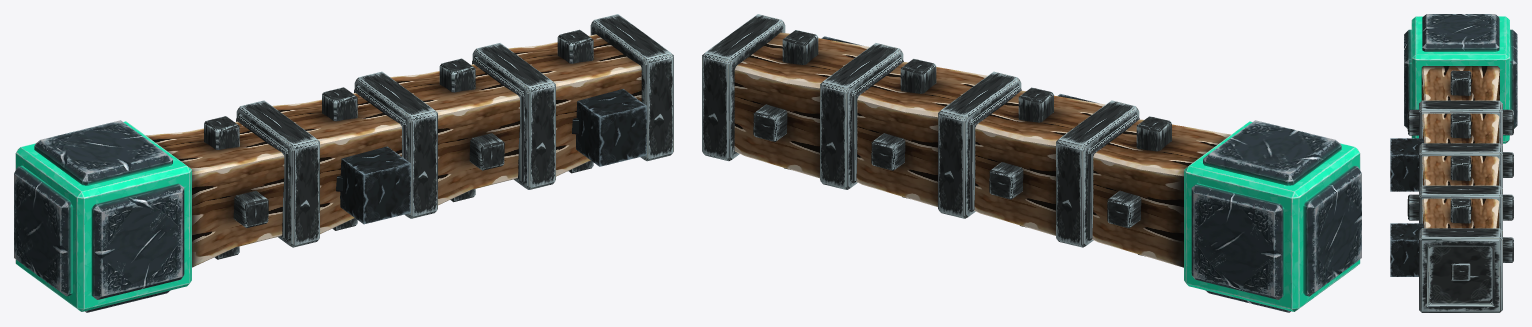
File: step_007.glb
3 renders of one model, left to right at view 1: azimuth 30°, elevation 25°; view 2: azimuth 150°, elevation 25°; view 3: azimuth 270°, elevation 25°, orthographic. The views are drawn at different scales.
Parts seen in each view (by area): view 1: SingleWoodenBlock_12c9bb10-82ed-4a1a-a479-a46bfc47bf6e, StartingBlock_74c47283-72fb-4408-a40b-371f75eef3d3, StartPoint_87a4f15e-b9b6-4721-ae35-d45cb3f66fa6; view 2: SingleWoodenBlock_12c9bb10-82ed-4a1a-a479-a46bfc47bf6e, StartingBlock_74c47283-72fb-4408-a40b-371f75eef3d3; view 3: SingleWoodenBlock_12c9bb10-82ed-4a1a-a479-a46bfc47bf6e, StartingBlock_74c47283-72fb-4408-a40b-371f75eef3d3, StartPoint_87a4f15e-b9b6-4721-ae35-d45cb3f66fa6.
Part boxes in pixels (<box>): SingleWoodenBlock_12c9bb10-82ed-4a1a-a479-a46bfc47bf6e: <box>146,14,673,267</box>; StartingBlock_74c47283-72fb-4408-a40b-371f75eef3d3: <box>14,120,191,312</box>; StartPoint_87a4f15e-b9b6-4721-ae35-d45cb3f66fa6: <box>336,89,646,224</box>; SingleWoodenBlock_12c9bb10-82ed-4a1a-a479-a46bfc47bf6e: <box>702,14,1230,267</box>; StartingBlock_74c47283-72fb-4408-a40b-371f75eef3d3: <box>1184,120,1361,312</box>; SingleWoodenBlock_12c9bb10-82ed-4a1a-a479-a46bfc47bf6e: <box>1407,66,1513,312</box>; StartingBlock_74c47283-72fb-4408-a40b-371f75eef3d3: <box>1404,14,1517,143</box>; StartPoint_87a4f15e-b9b6-4721-ae35-d45cb3f66fa6: <box>1390,138,1423,276</box>.
Size of the model in its own units: 5.18 by 1.13 by 1.26.
3 materials, 3 textured.
